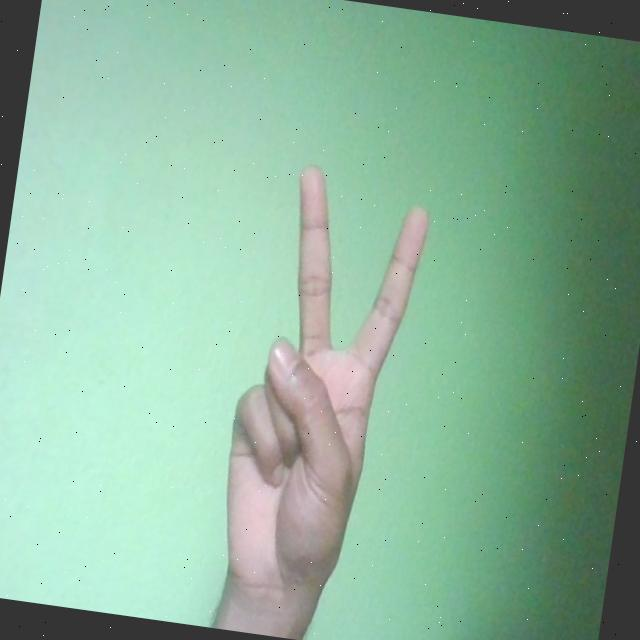Fist: (208, 156, 434, 618)
